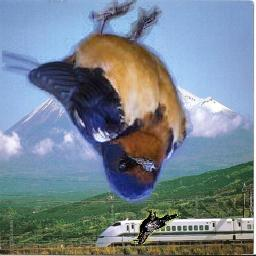Crow: (132, 210, 179, 245)
Swallow: (3, 0, 194, 204)
